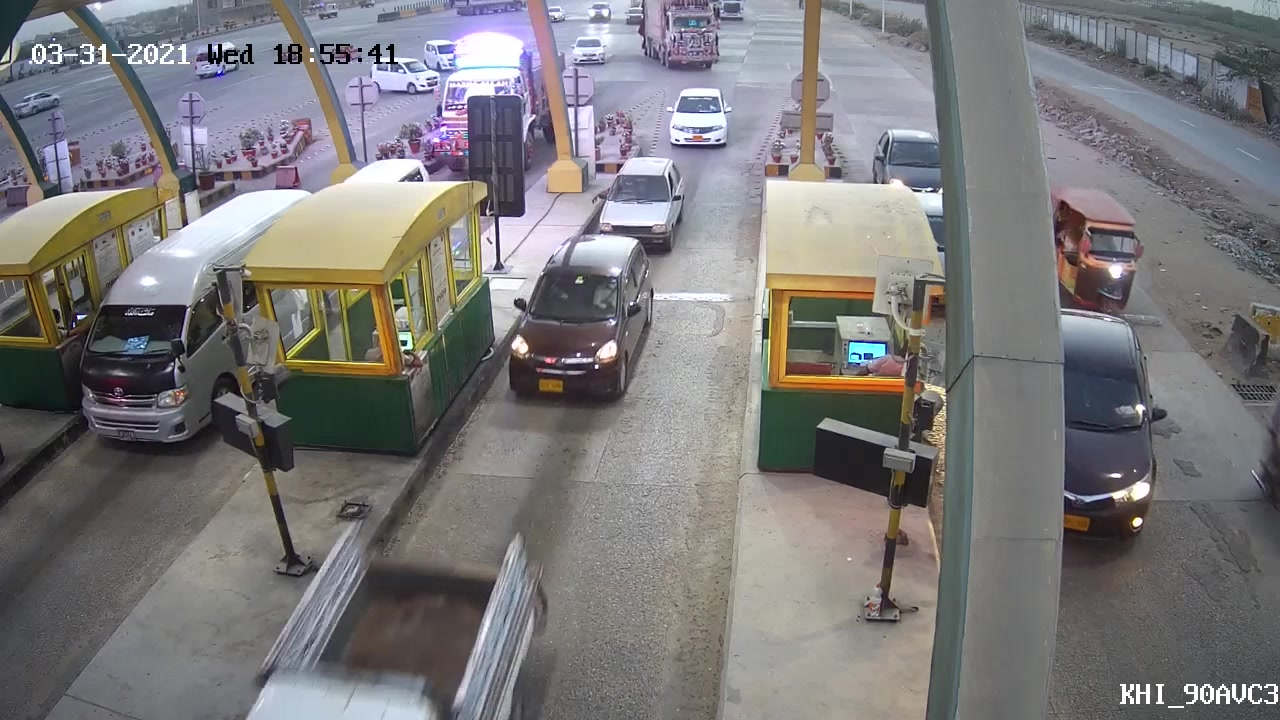F1: (504, 230, 662, 406)
